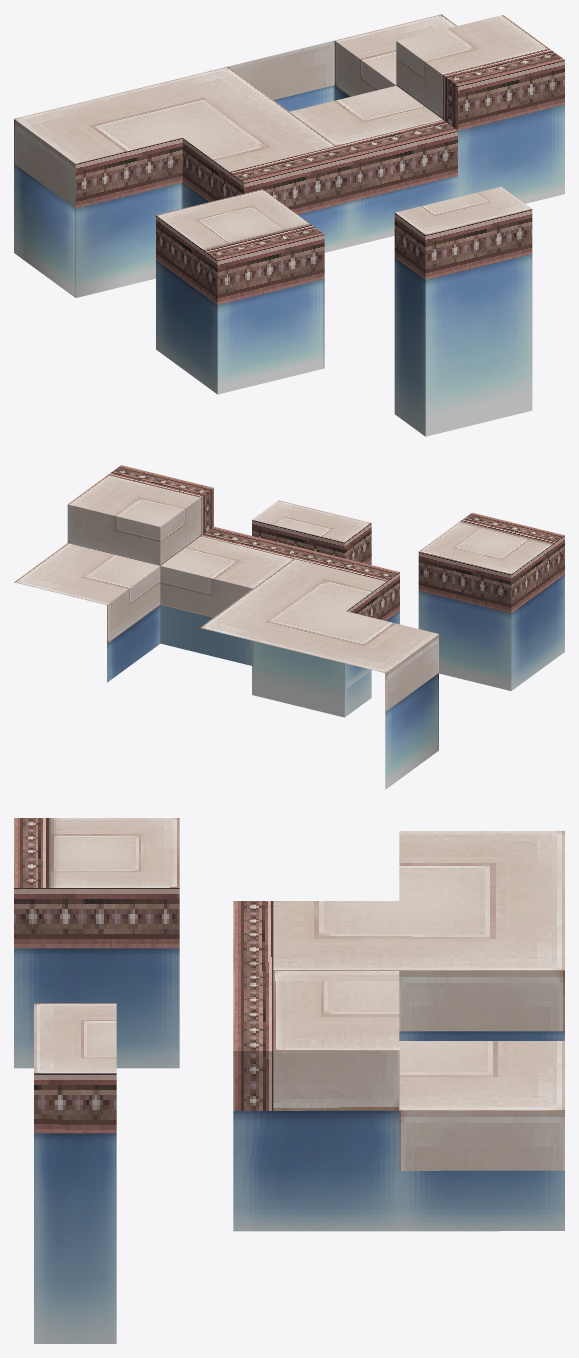
Rendered from a_ESDway04.glb.
3 views of the same model, one above another, from view 1: azimuth 30°, elevation 25°; view 2: azimuth 150°, elevation 25°; view 3: azimuth 270°, elevation 25° (orthographic). The views are drawn at different scales.
Visible parts, largest first — view 1: a_ESDway04; view 2: a_ESDway04; view 3: a_ESDway04.
Part boxes in pixels (x1,y1,x2,y2): a_ESDway04: [14, 14, 564, 436]; a_ESDway04: [14, 465, 564, 789]; a_ESDway04: [14, 818, 564, 1343].
Size of the model in its own units: 2.01 by 1.21 by 1.66.
3 materials, 3 textured.
